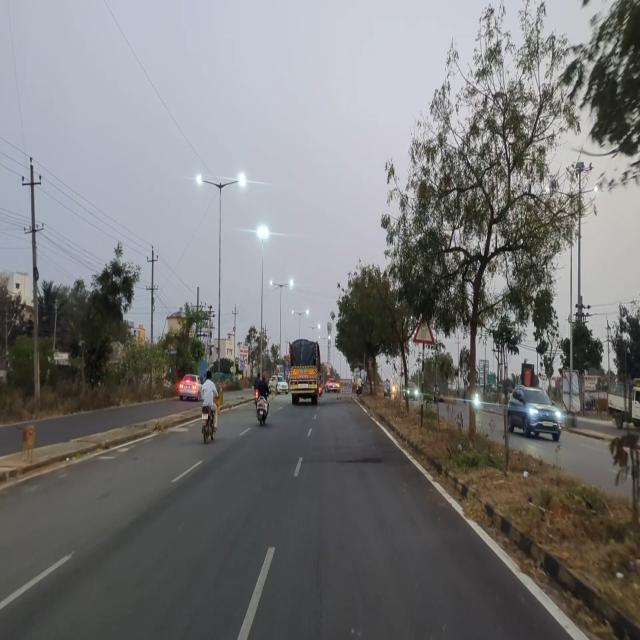bien_cam: (412, 314, 436, 345)
